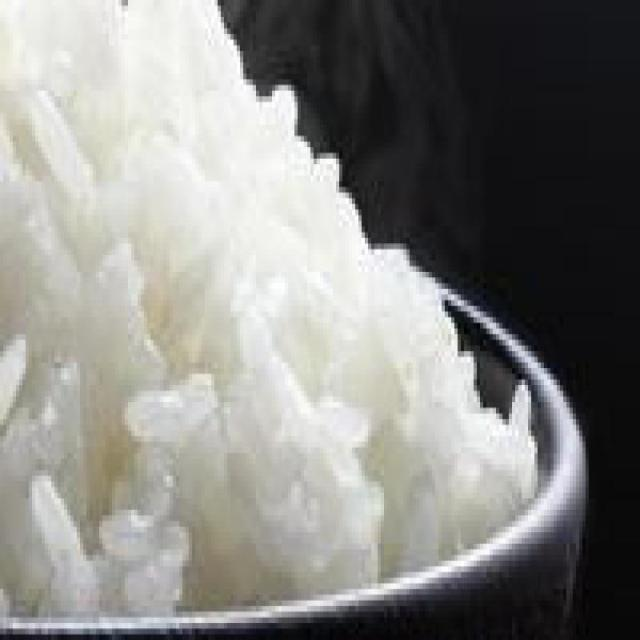nasi_putih: (0, 2, 534, 616)
